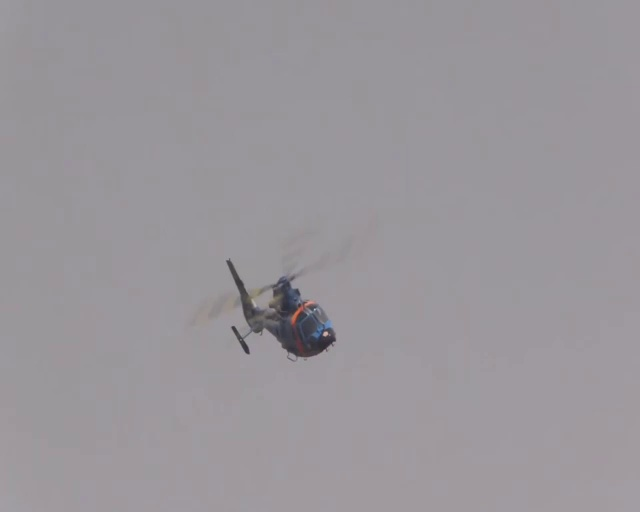HELICOPTER: (189, 230, 355, 361)
